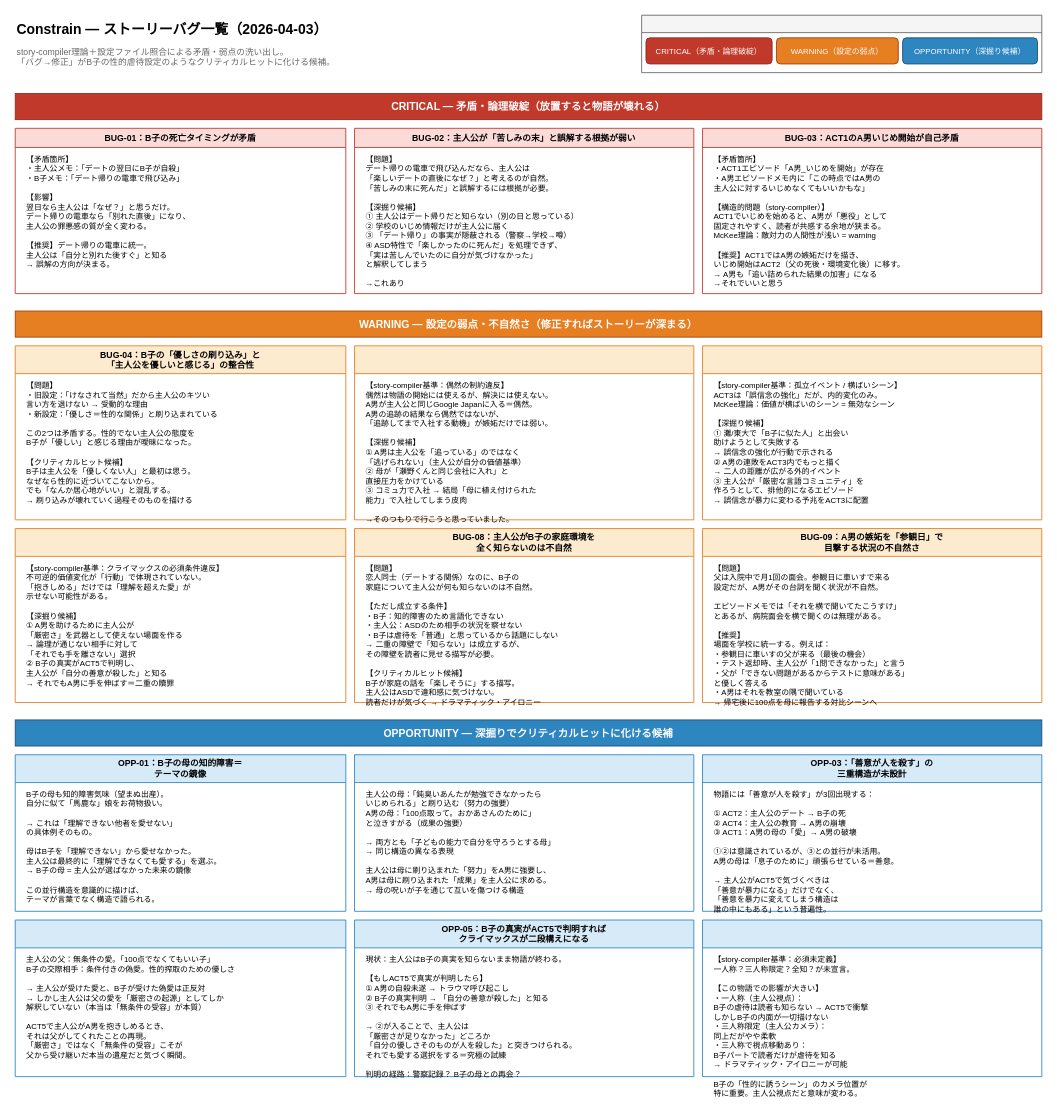
This 1057x1114 diagram has some shape labels left out. Each missing label, with the box of its shape:
BUG-05：A男のGoogle入社が 「偶然の過剰使用」に見える: (354, 345, 694, 520)
BUG-06：ACT3に外的イベントがない （構造的空白）: (702, 345, 1042, 520)
BUG-07：ACT5「理解できなくても愛する」 の具体的行動が未設計: (14, 528, 346, 703)
OPP-02：A男の母と主人公の母の 鏡像関係が未活用: (354, 754, 694, 911)
OPP-04：B子の交際相手の「偽の優しさ」と 主人公の父の「本当の優しさ」の対比: (14, 919, 346, 1077)
OPP-06：視点ポリシーが未定義 （story-compiler: compile_error）: (702, 919, 1042, 1077)
凡例: (641, 14, 1042, 73)
